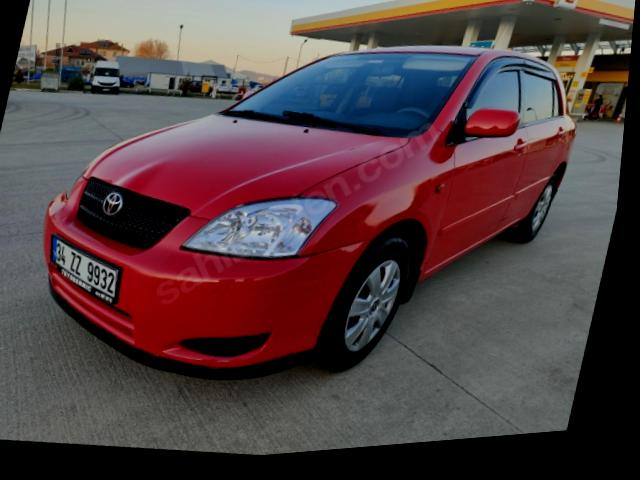plaka: (51, 237, 119, 303)
